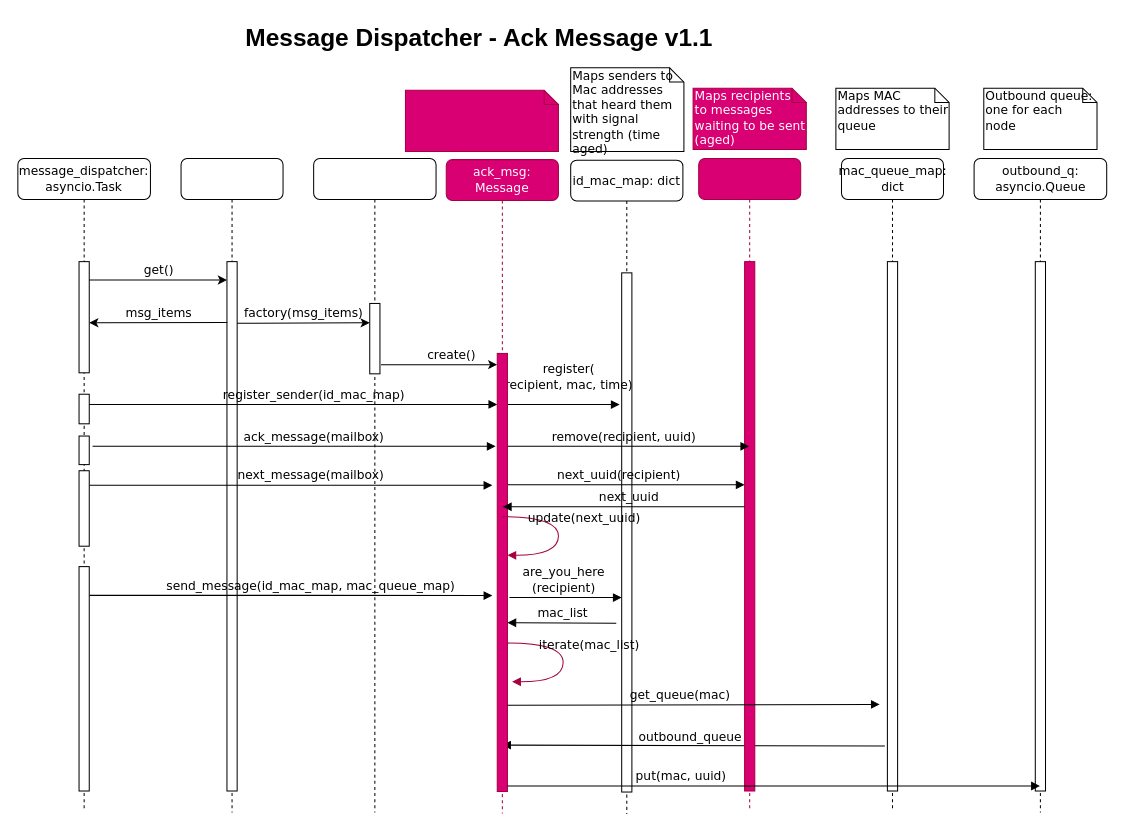
Image size: 1125x831. Some labels were removed from this diagram. The box of each missing label's shape, as (x1, y1, x2, y2) in pixels:
Acks are original text msg with type changed so we register sender as recipient: (404, 89, 558, 151)
factory: Message.factory: (313, 158, 436, 812)
in_q: asyncio.Queue: (180, 158, 283, 812)
mailbox:dict: (698, 158, 801, 811)
